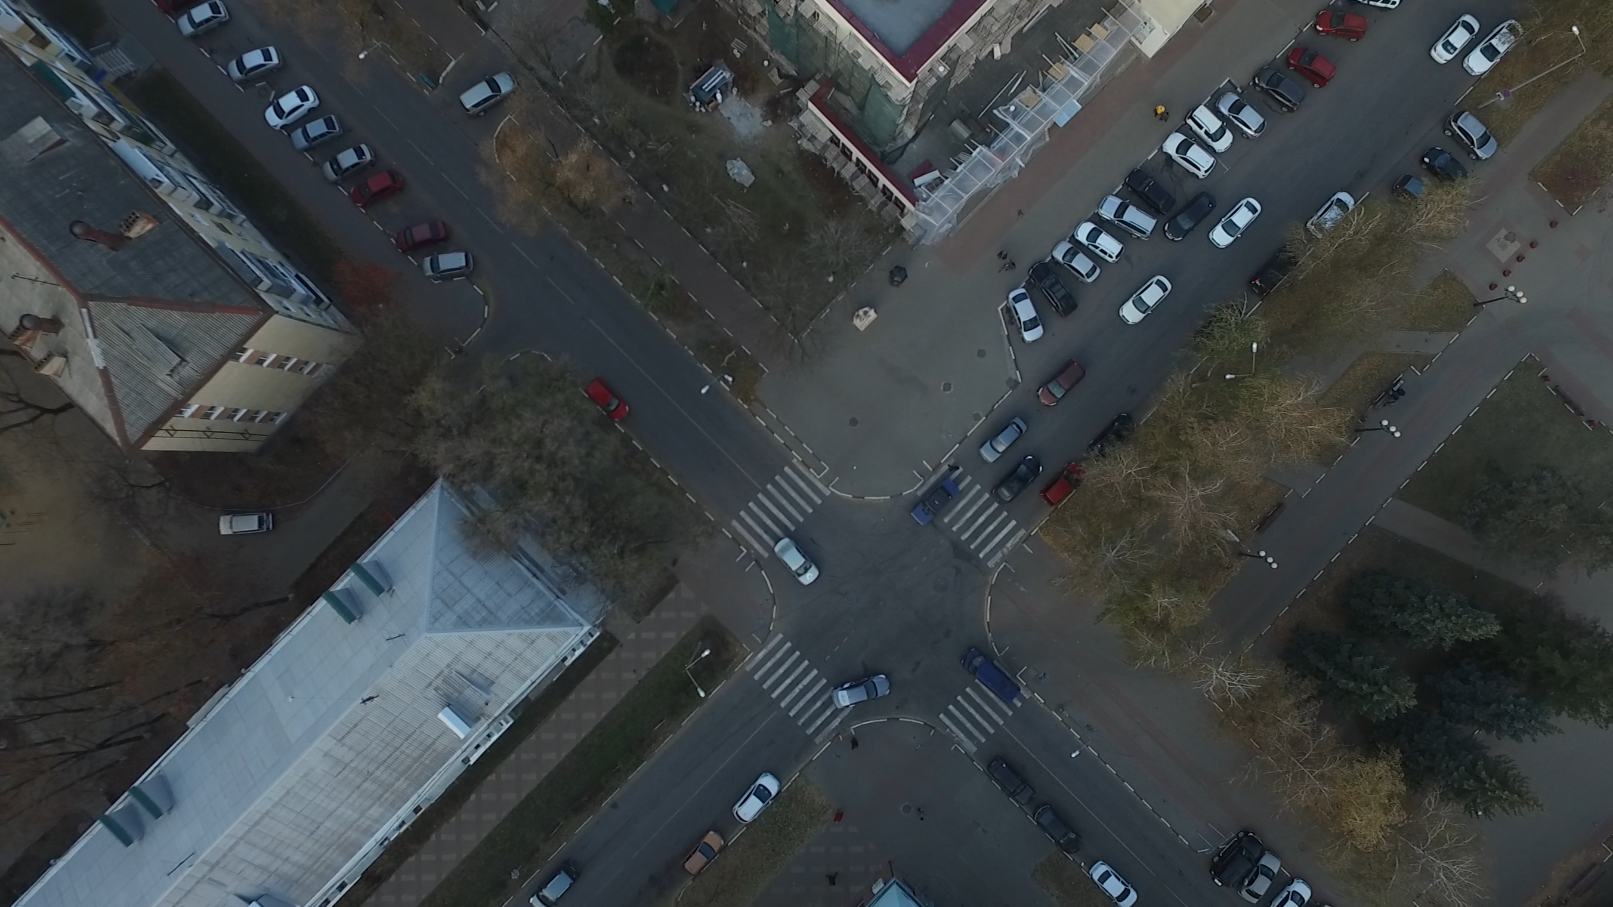car: (1463, 17, 1525, 84), (960, 643, 1025, 707), (1210, 194, 1268, 251), (1162, 186, 1219, 246), (525, 854, 587, 907), (455, 68, 521, 117), (1447, 111, 1501, 169), (1117, 274, 1173, 328), (1218, 89, 1272, 145), (1099, 192, 1159, 243), (1160, 131, 1218, 183), (1026, 261, 1077, 320), (1251, 245, 1299, 306), (1208, 834, 1262, 888), (905, 478, 960, 532), (732, 766, 782, 825), (1079, 860, 1141, 907), (1052, 241, 1106, 296), (261, 85, 323, 132), (1307, 186, 1358, 243), (993, 450, 1042, 506), (1432, 14, 1484, 66), (1422, 150, 1472, 204), (1032, 800, 1080, 856), (1086, 412, 1137, 464), (1124, 165, 1177, 216), (345, 169, 411, 209), (1282, 43, 1338, 90), (1182, 105, 1234, 155), (1235, 851, 1284, 904), (986, 754, 1032, 808), (317, 141, 377, 183), (831, 672, 895, 711), (771, 539, 820, 590), (977, 418, 1026, 468), (1396, 173, 1439, 228), (220, 45, 286, 82), (1001, 286, 1044, 342), (1251, 66, 1301, 113), (1036, 362, 1087, 408), (582, 373, 627, 422), (1040, 458, 1083, 507), (289, 112, 345, 150), (1076, 220, 1123, 264), (682, 829, 725, 878), (174, 1, 228, 37), (393, 218, 451, 251), (1354, 1, 1419, 28), (1317, 8, 1369, 41), (215, 509, 271, 538), (421, 250, 475, 277)
